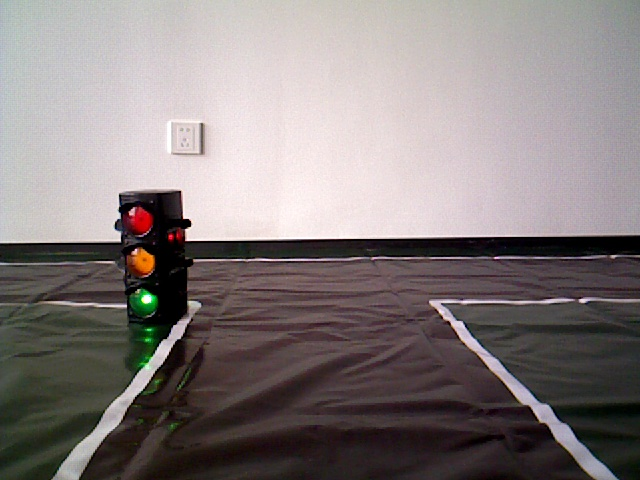green: (121, 197, 187, 315)
